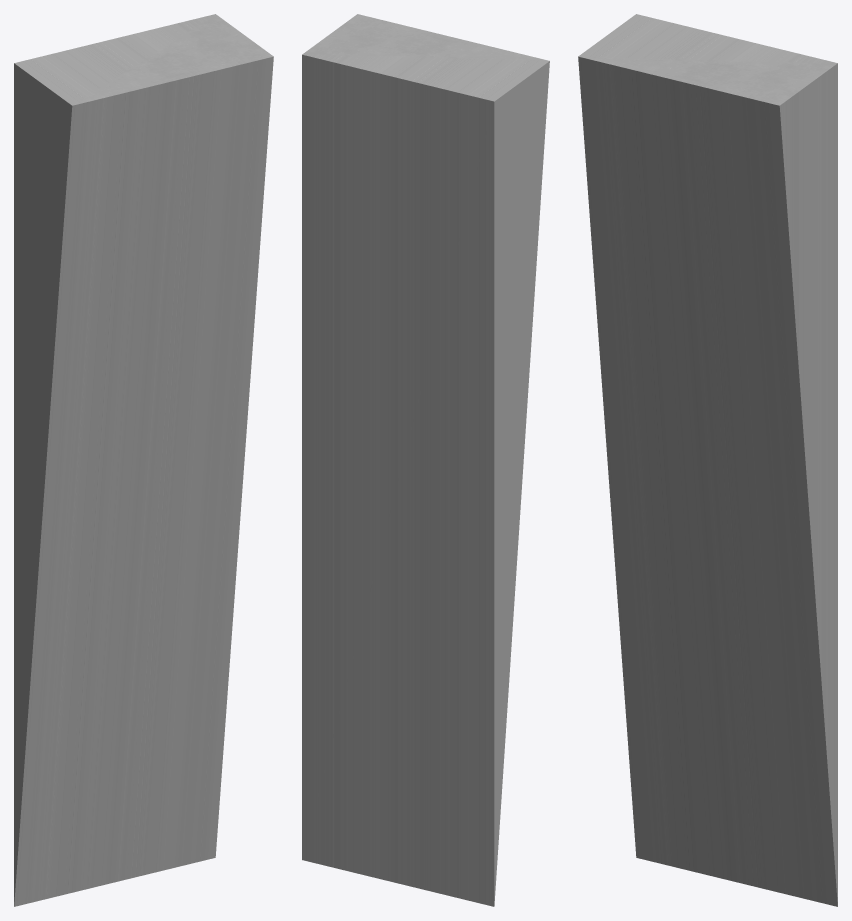
File: downward_angled_100cm_endCap.glb
3 renders of one model, left to right at view 1: azimuth 30°, elevation 25°; view 2: azimuth 150°, elevation 25°; view 3: azimuth 330°, elevation 25°, orthographic. The views are drawn at different scales.
Visible parts, largest first — view 1: downward.angled.100cm.endCap; view 2: downward.angled.100cm.endCap; view 3: downward.angled.100cm.endCap.
Part boxes in pixels (x1,y1,x2,y2): downward.angled.100cm.endCap: (14,14,273,906); downward.angled.100cm.endCap: (302,14,549,906); downward.angled.100cm.endCap: (578,14,837,906).
Bounding box in the file's own units: 0.25 × 1 × 0.125.
1 material, 1 textured.
